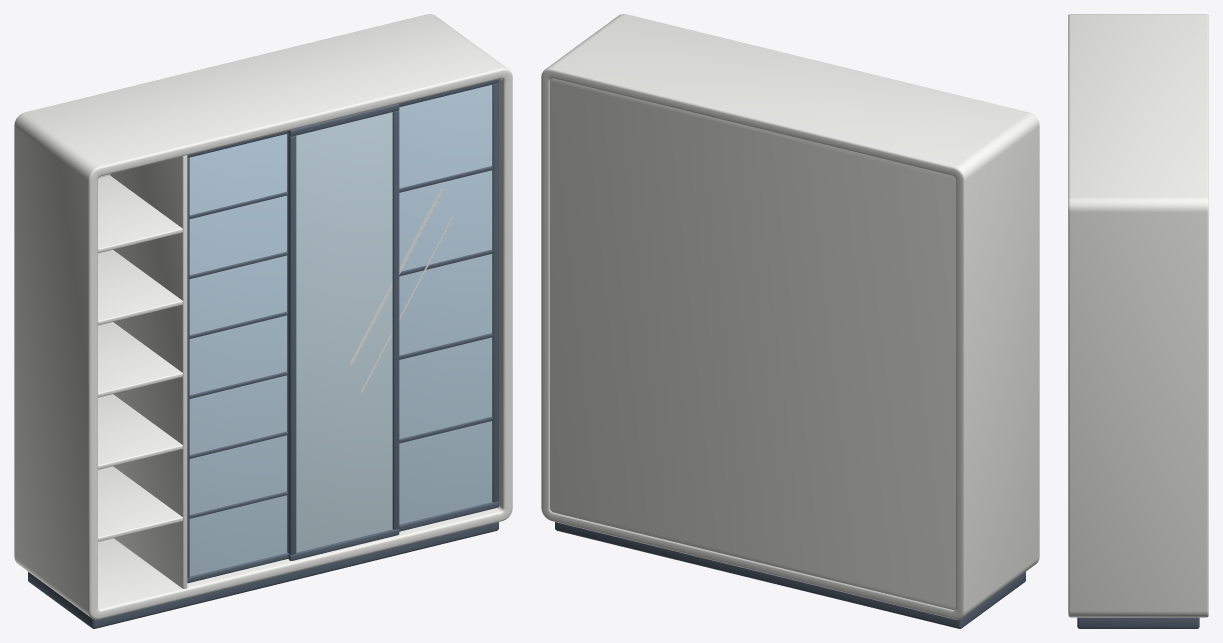
The model's file is guarda_roupa_correr_espelho_branco.glb.
3 views of the same model, side by side, from view 1: azimuth 30°, elevation 25°; view 2: azimuth 150°, elevation 25°; view 3: azimuth 270°, elevation 25° (orthographic). The views are drawn at different scales.
Parts seen in each view (by area): view 1: guarda_roupa_correr_espelho_branco, correr_3, correr_1, correr_2; view 2: guarda_roupa_correr_espelho_branco; view 3: guarda_roupa_correr_espelho_branco.
Part boxes in pixels (x1,y1,x2,y2): guarda_roupa_correr_espelho_branco: (14, 14, 512, 628); correr_3: (288, 104, 453, 560); correr_1: (187, 130, 288, 583); correr_2: (398, 79, 498, 531); guarda_roupa_correr_espelho_branco: (541, 14, 1039, 628); guarda_roupa_correr_espelho_branco: (1068, 14, 1208, 628).
Bounding box in the file's own units: 2 × 2.1 × 0.62.
2 materials, 1 textured.
